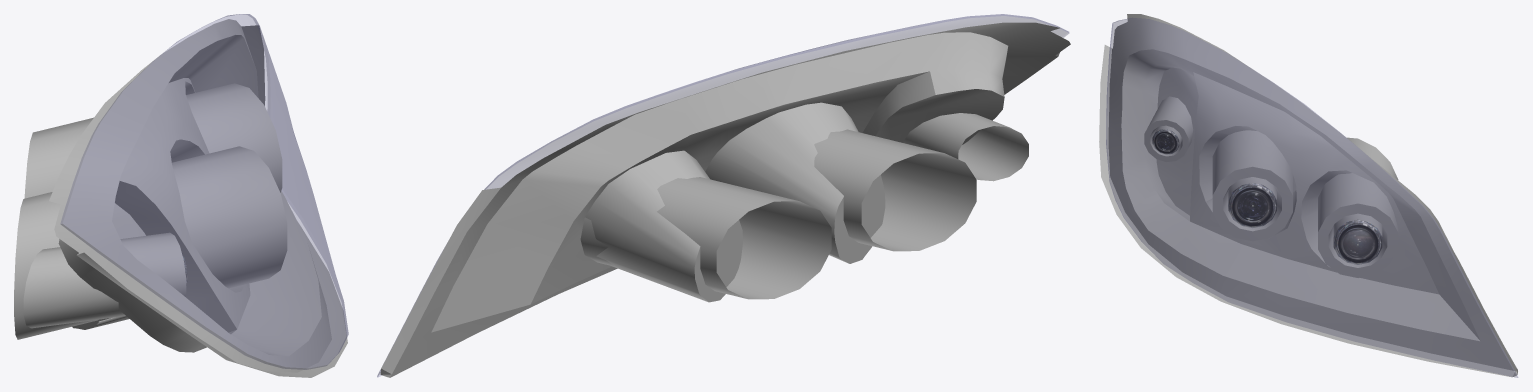
The picture shows the model from 3 angles, left to right: view 1: azimuth 30°, elevation 25°; view 2: azimuth 150°, elevation 25°; view 3: azimuth 270°, elevation 25°; orthographic projection. The views are drawn at different scales.
Visible parts, largest first — view 1: X3144_061B_R_X3144_061B_R_4_DaS, X3144_061B_R_X3144_061B_R_6_DTaSI; view 2: X3144_061B_R_X3144_061B_R_4_DaS, X3144_061B_R_X3144_061B_R_6_DTaSI; view 3: X3144_061B_R_X3144_061B_R_6_DTaSI, X3144_061B_R_X3144_061B_R_4_DaS, X3144_061B_R_X3144_061B_R_3_N, X3144_061B_R_1_N_X3144_061B_R, X3144_061B_R_X3144_061B_R_2_N.
Part boxes in pixels (bbox=[...]): X3144_061B_R_X3144_061B_R_4_DaS: bbox=[14, 19, 347, 377]; X3144_061B_R_X3144_061B_R_6_DTaSI: bbox=[60, 14, 348, 369]; X3144_061B_R_X3144_061B_R_4_DaS: bbox=[380, 22, 1070, 377]; X3144_061B_R_X3144_061B_R_6_DTaSI: bbox=[377, 14, 1069, 377]; X3144_061B_R_X3144_061B_R_6_DTaSI: bbox=[1106, 17, 1518, 377]; X3144_061B_R_X3144_061B_R_4_DaS: bbox=[1099, 14, 1517, 377]; X3144_061B_R_X3144_061B_R_3_N: bbox=[1333, 219, 1382, 264]; X3144_061B_R_1_N_X3144_061B_R: bbox=[1228, 183, 1276, 227]; X3144_061B_R_X3144_061B_R_2_N: bbox=[1152, 129, 1179, 154].
Size of the model in its own units: 40.46 by 25.52 by 44.57.
